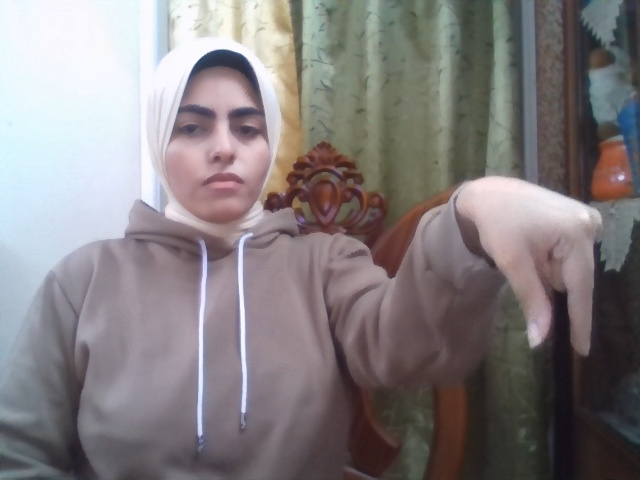Q: (473, 177, 602, 356)
